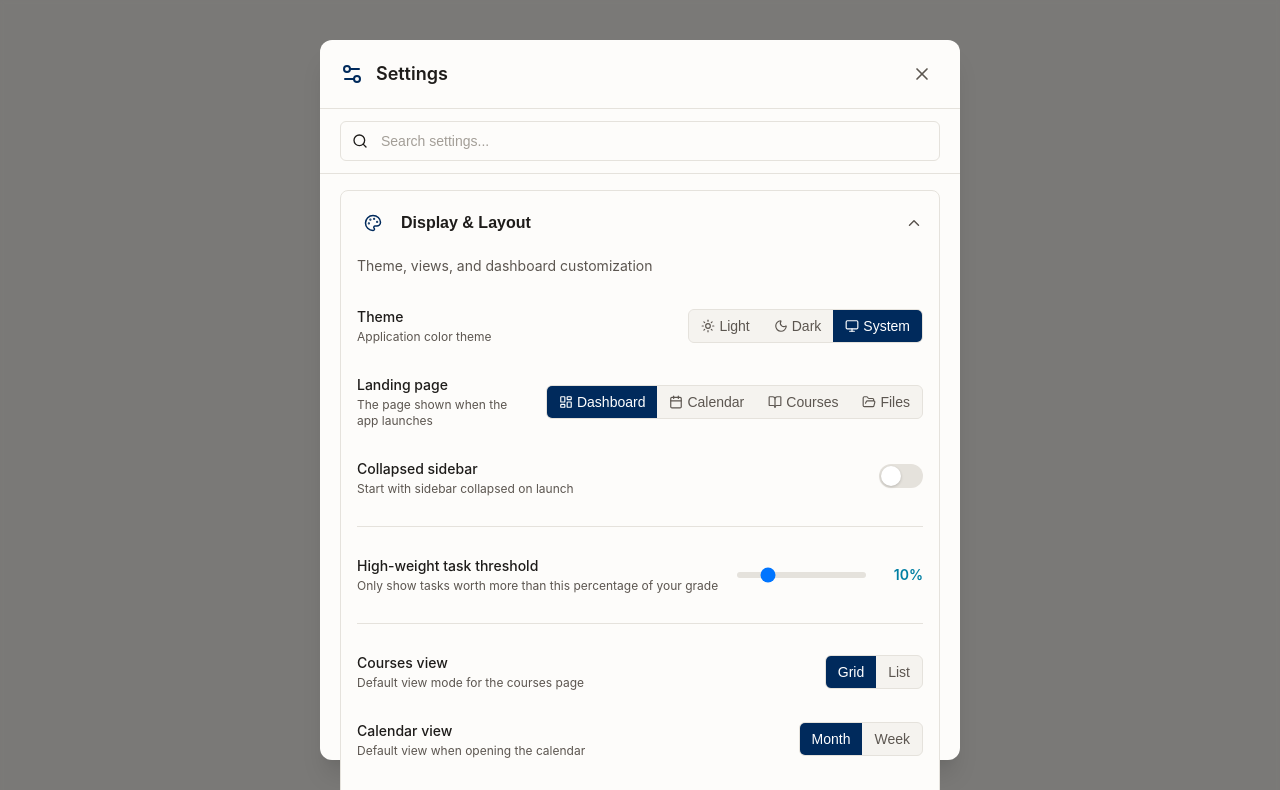
Test: SettingsModal › Search functionality › shows no results message when search has no matches
In the field with placeholder "Search settings...": x=640, y=141 [340,121,940,161], type "xyznonexistent"
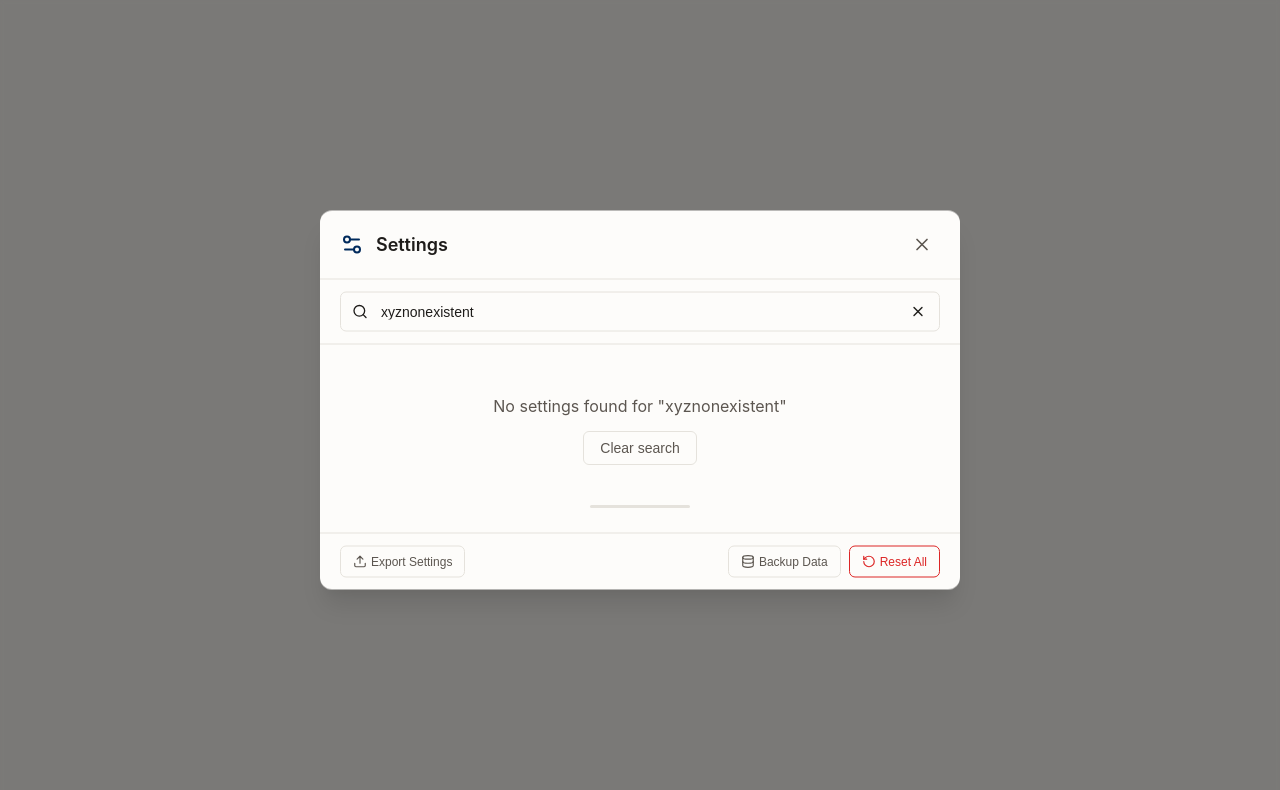
Now the text "No settings found for \"xyznonexistent\"" is shown, box [493,396,787,416]
